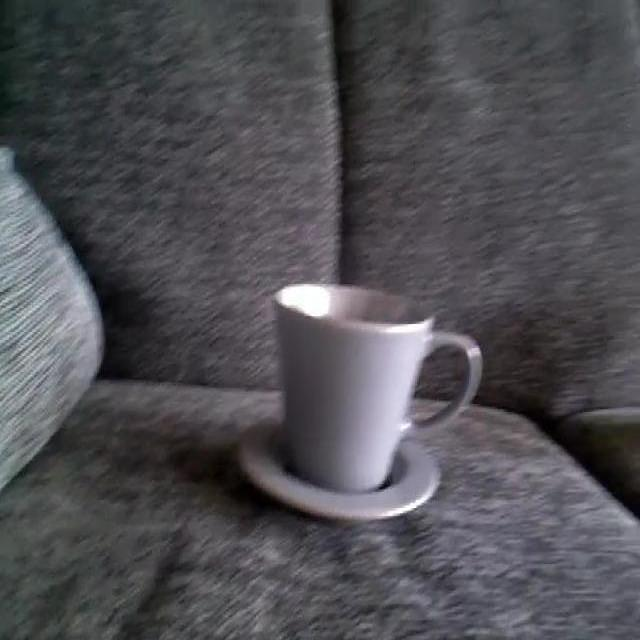cup: (259, 266, 474, 542)
